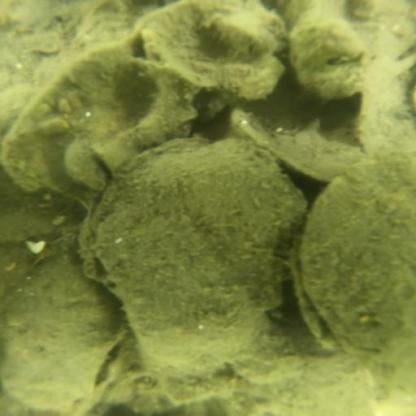Oyster- Indeterminate: (93, 133, 309, 367), (297, 158, 413, 413)
Oyster-Closed: (0, 230, 126, 412), (60, 140, 114, 193)
